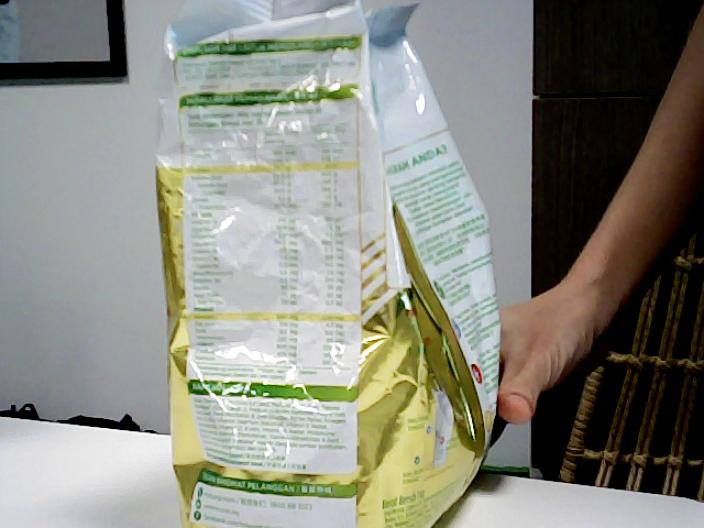Adult_Milk_1000-1999g_Halal_NonHealthy: (161, 1, 501, 528)
